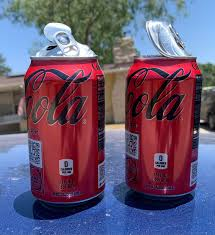can: (28, 21, 109, 208), (125, 18, 199, 203)
